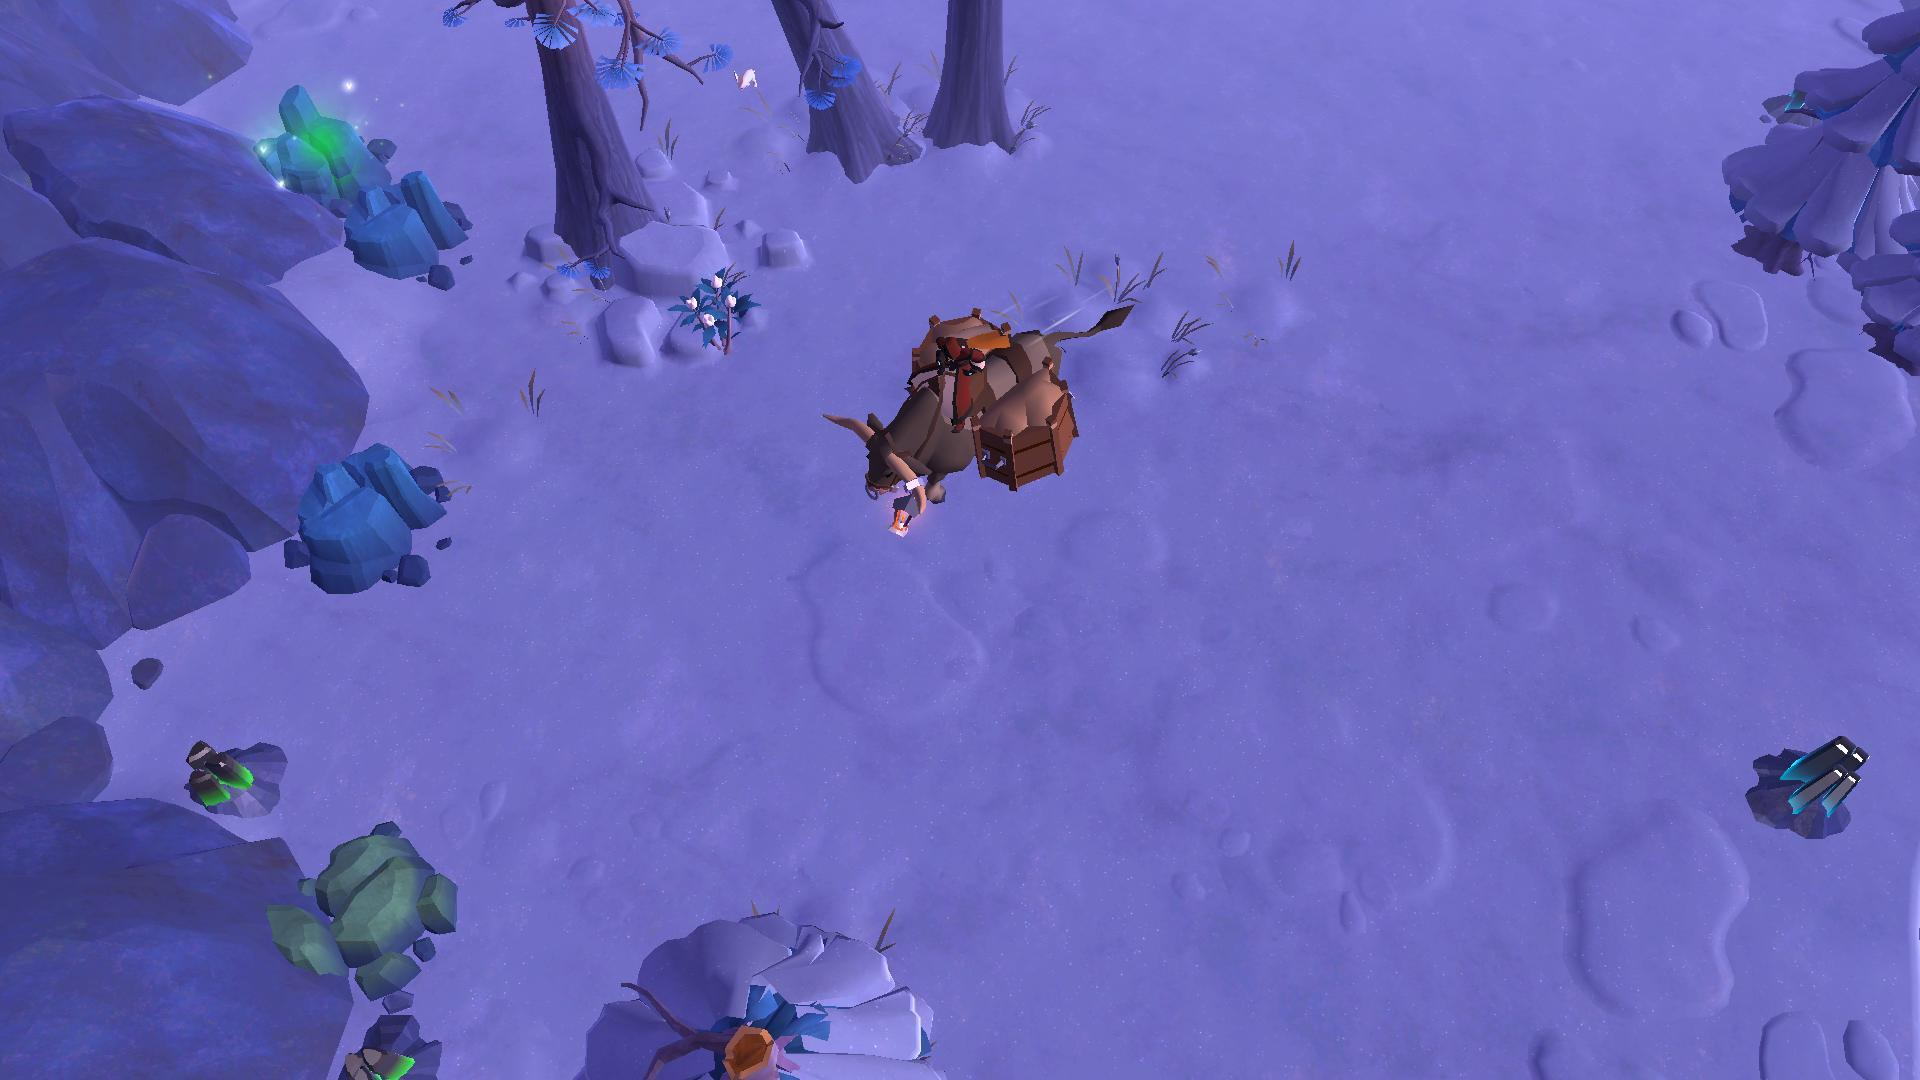fiber_t4: (675, 272, 760, 353)
ore_t3: (174, 740, 251, 815), (328, 1044, 413, 1080)
ore_t4: (1775, 723, 1865, 820)
rock_t3: (252, 816, 479, 1001)
rock_t4: (280, 440, 450, 595), (347, 164, 473, 290), (252, 88, 384, 207)
